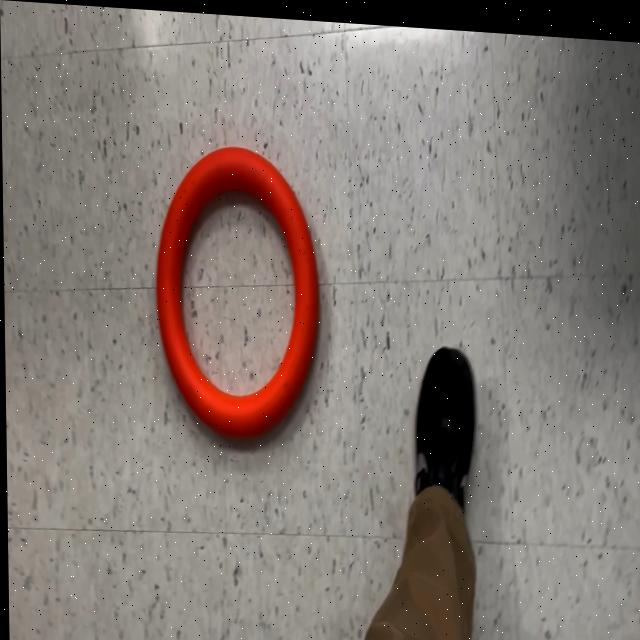note: (152, 137, 321, 445)
